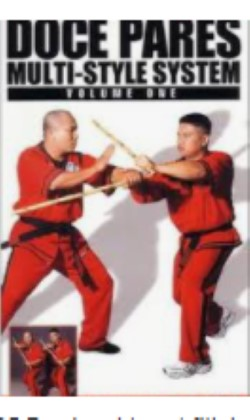baston_e: (22, 179, 121, 214), (102, 124, 131, 159)
baston_v: (90, 115, 98, 125), (6, 209, 17, 215)
